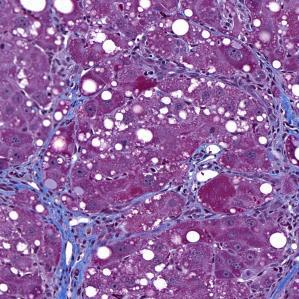fibrosis: (28, 151, 95, 263), (261, 69, 295, 150), (59, 64, 88, 122)
